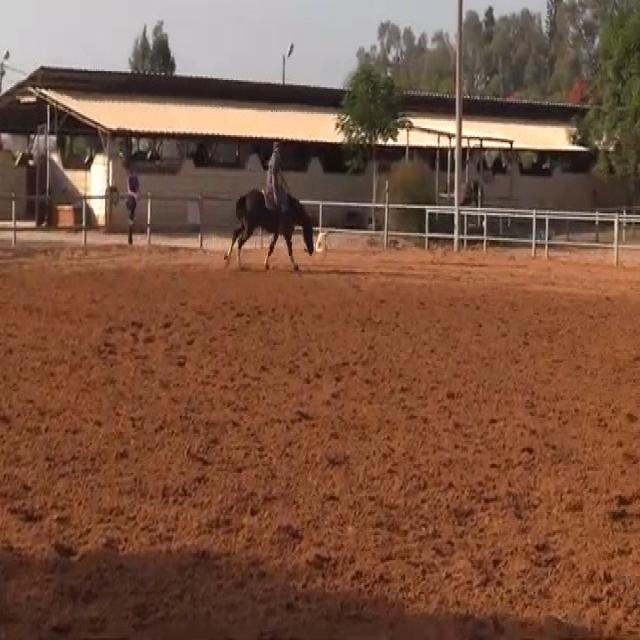horse: (222, 180, 316, 272)
